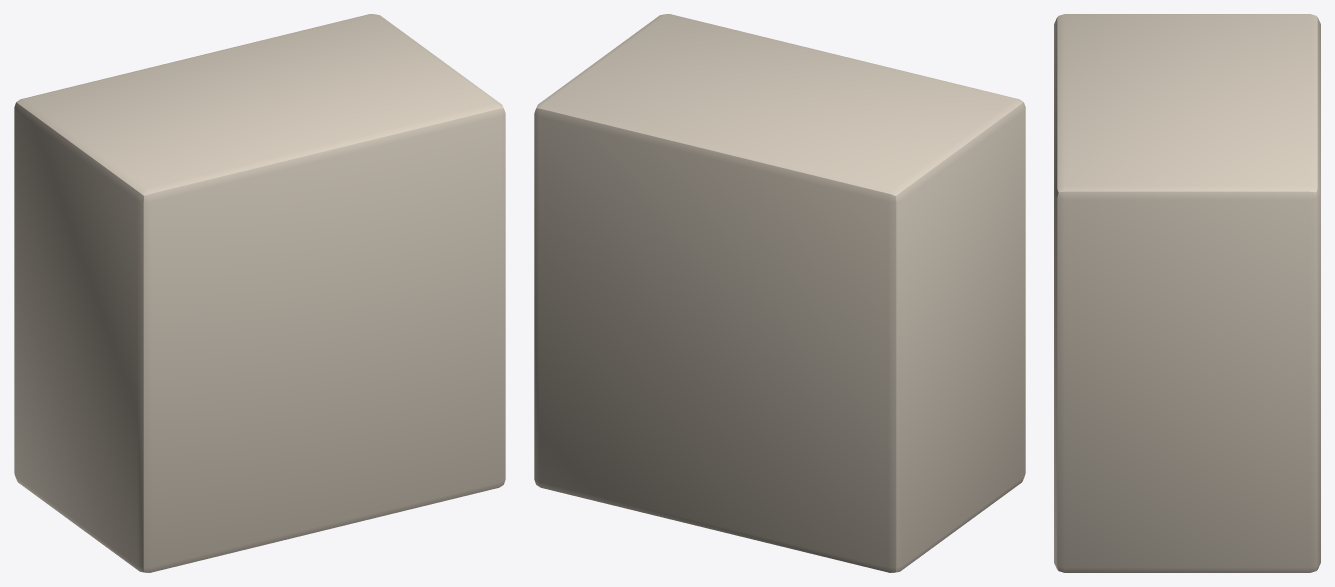
Rendered from other.glb.
3 views of the same model, side by side, from view 1: azimuth 30°, elevation 25°; view 2: azimuth 150°, elevation 25°; view 3: azimuth 270°, elevation 25° (orthographic).
Parts seen in each view (by area): view 1: other; view 2: other; view 3: other.
Boxes of the visible parts, x1,y1,x2,y2 form: other: (14, 14, 505, 572); other: (534, 14, 1025, 572); other: (1054, 14, 1320, 572).
Size of the model in its own units: 0.8 by 0.8 by 0.5.
